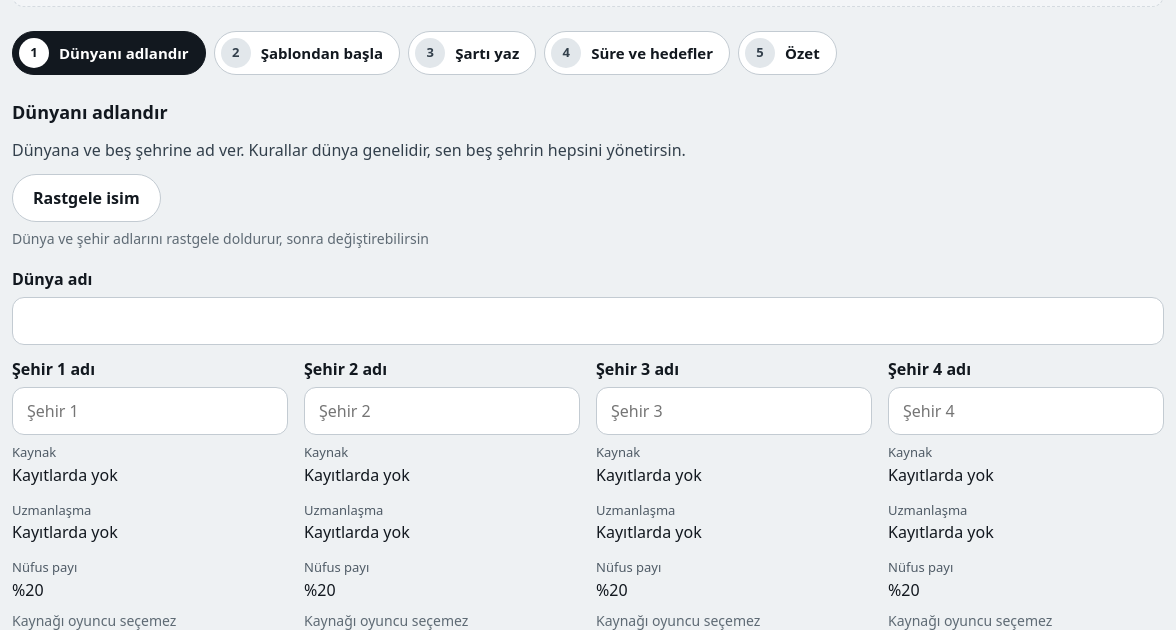
Başlat: sunucu sınırları › too_many_runs_ozel_metin_gosterir
Type "D" into the field labelled "Dünya adı".
click(588, 321); type("D")  # box [13,297,1163,345]
(page scrolled)
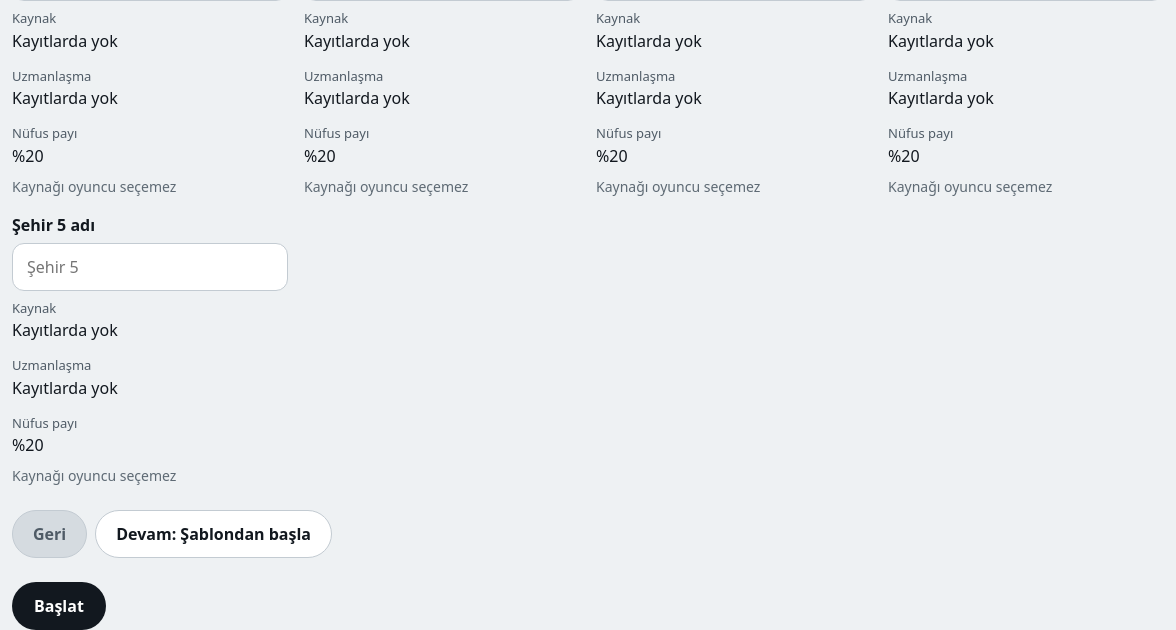
Click the button "Başlat".
click(59, 606)  # box [12,582,106,629]
(page scrolled)
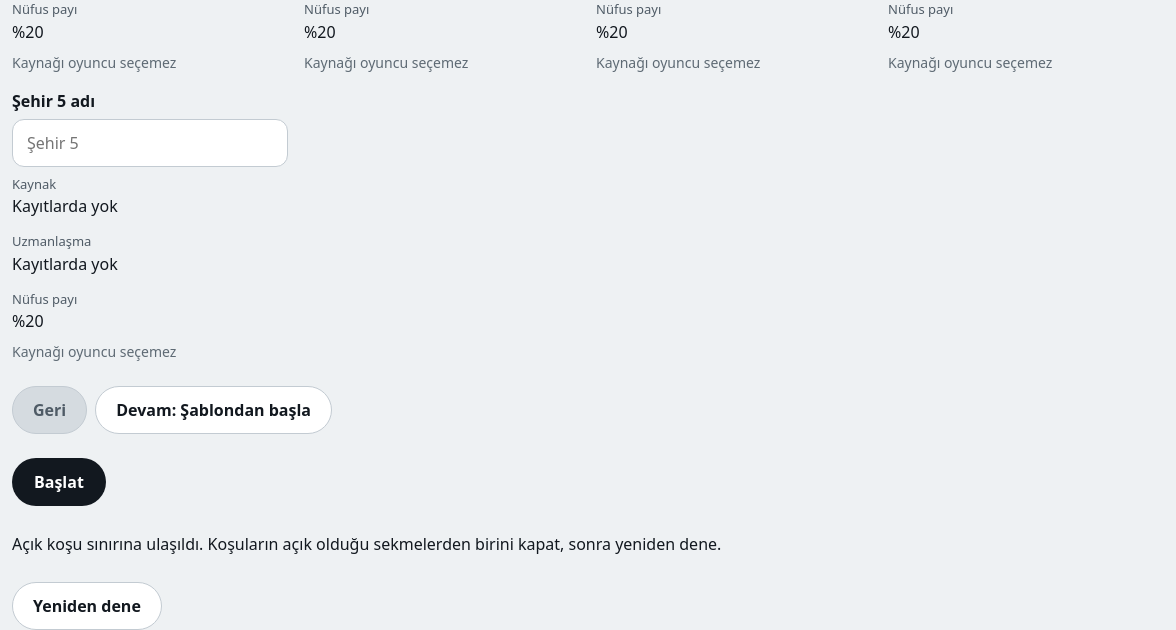
Expected: the message shows "Açık koşu sınırına ulaşıldı. Koşuların açık olduğu sekmelerden birini kapat, sonra yeniden dene.", [12,533,721,555]
